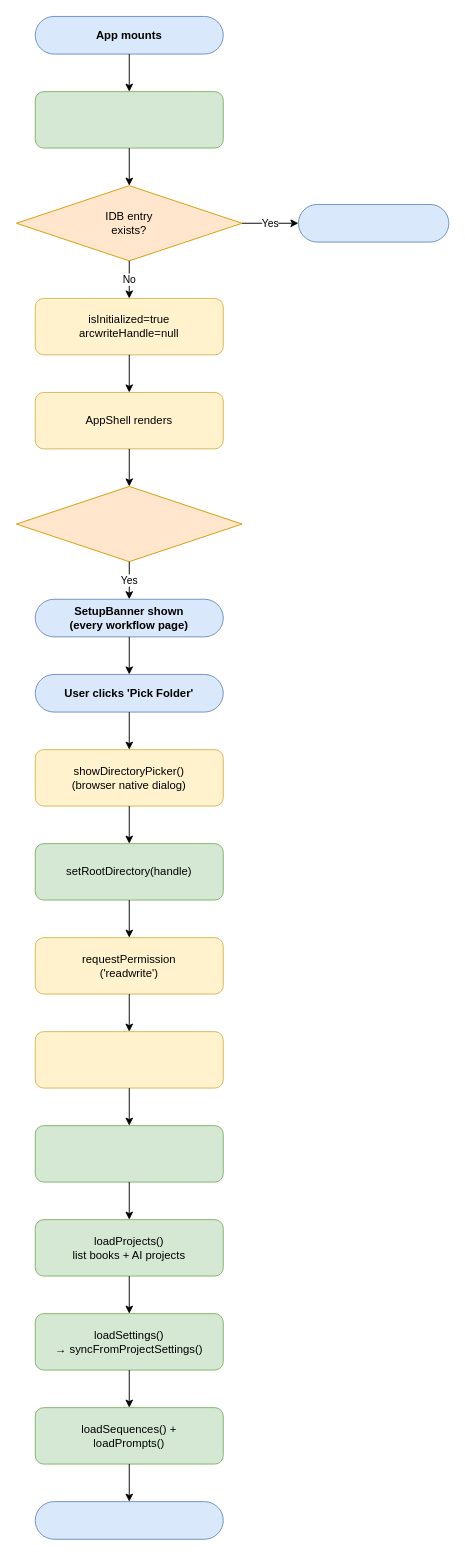
Image size: 465x1556. Some labels were removed from this diagram. Each missing label, with the centre of its shape:
arcwriteHandle null?: the point at 129,524
Full UI available: the point at 128,1520
initArcwrite(handle) Ensure folder structure: the point at 128,1059
saveHandle() → IndexedDB: the point at 128,1153
useProjectStore .restoreFromIDB(): the point at 128,119
→ 1.3 Warm Start: the point at 373,223
